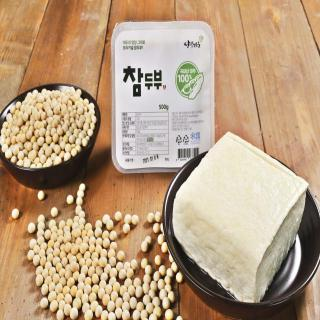Tahu: (159, 131, 315, 301)
